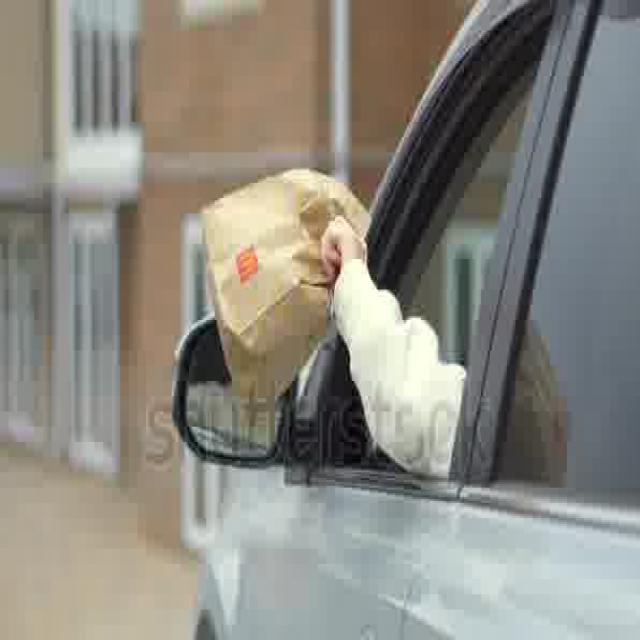garbage_dumping: (196, 157, 382, 392)
